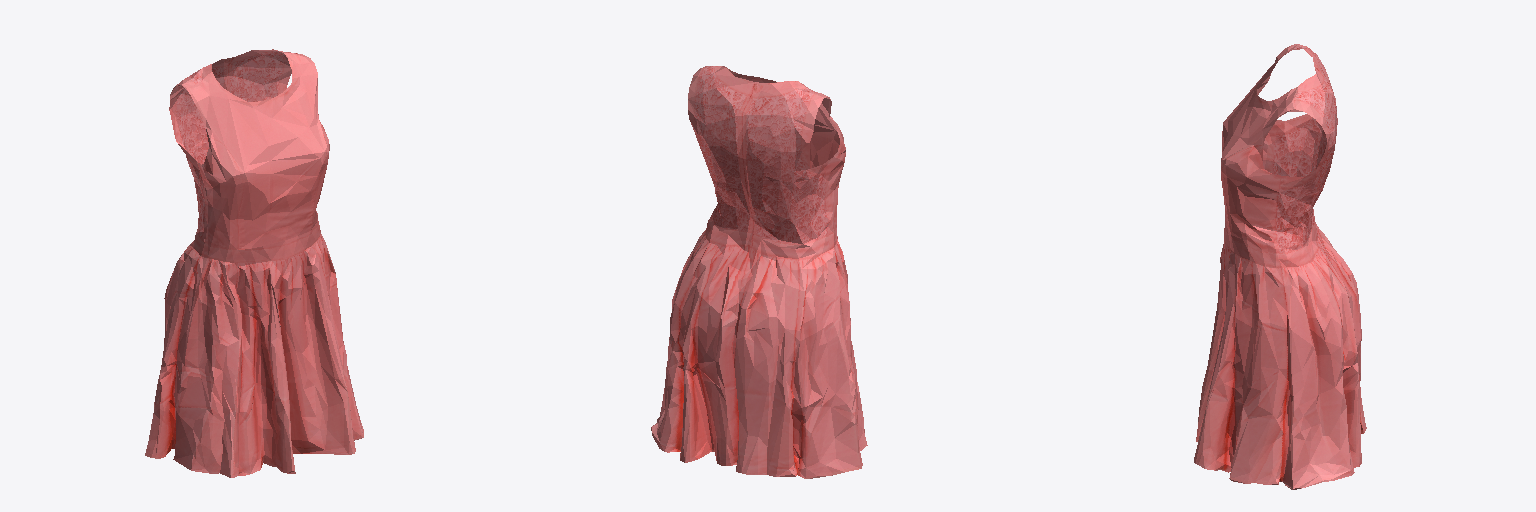
3 renders of one model, left to right at view 1: azimuth 30°, elevation 25°; view 2: azimuth 150°, elevation 25°; view 3: azimuth 270°, elevation 25°, orthographic.
Visible parts, largest first — view 1: dress; view 2: dress; view 3: dress.
Part boxes in pixels (bbox=[...]): dress: bbox=[145, 49, 363, 477]; dress: bbox=[651, 66, 867, 478]; dress: bbox=[1194, 44, 1366, 489].
Size of the model in its own units: 0.505 by 0.9031 by 0.37.
1 materials, 1 textured.